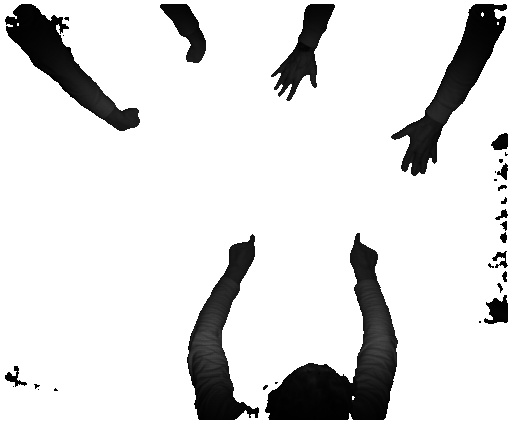fist: (121, 104, 143, 135), (184, 42, 207, 63)
hand: (384, 123, 443, 175), (264, 52, 319, 103), (344, 232, 383, 276), (216, 232, 255, 275)
